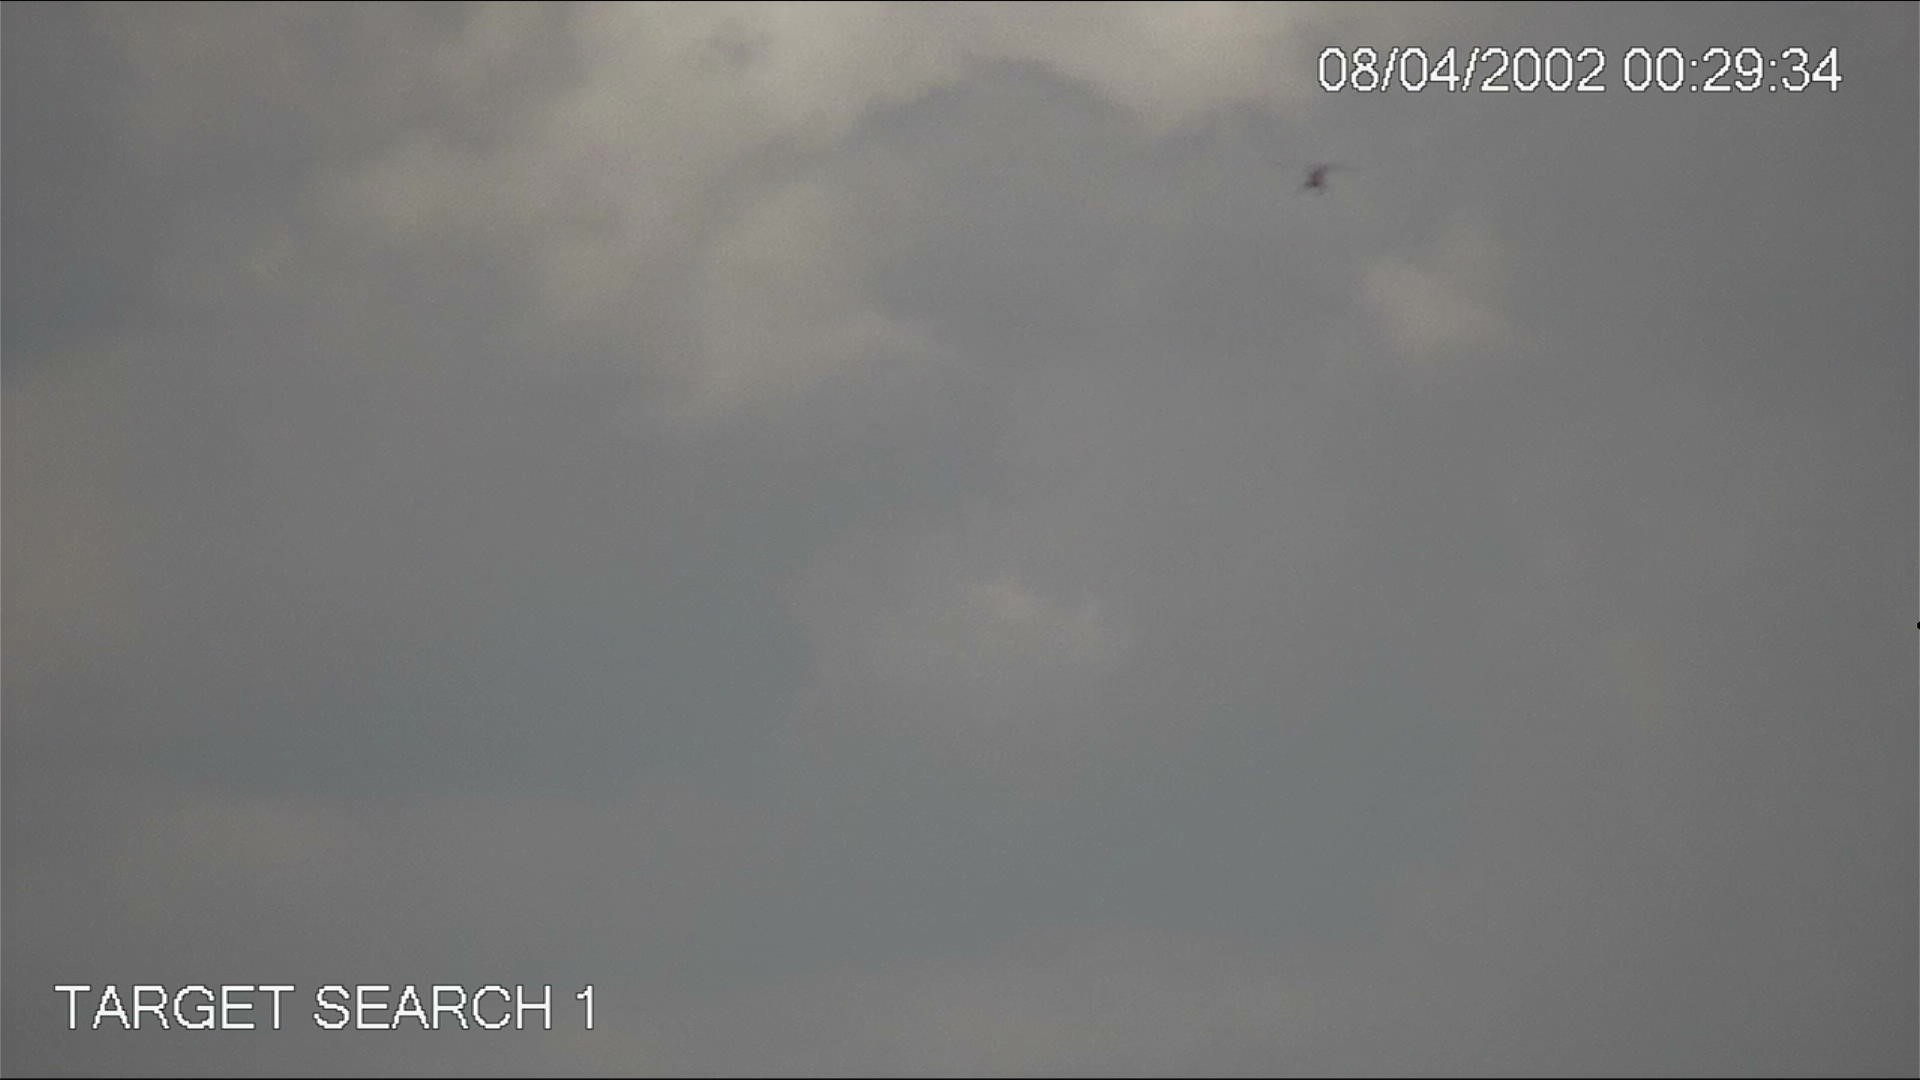SU_30: (1273, 150, 1354, 200)
